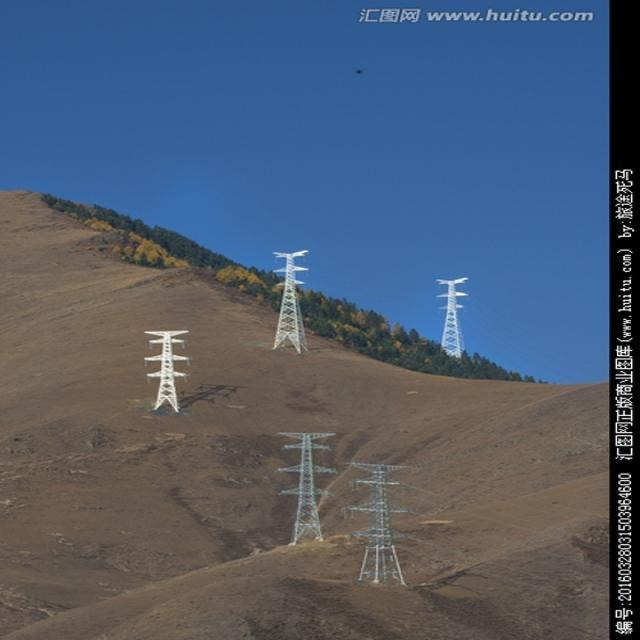non-critical vegetation: (352, 456, 424, 600), (258, 232, 321, 358), (262, 427, 330, 541), (135, 315, 199, 416), (425, 274, 474, 368)
